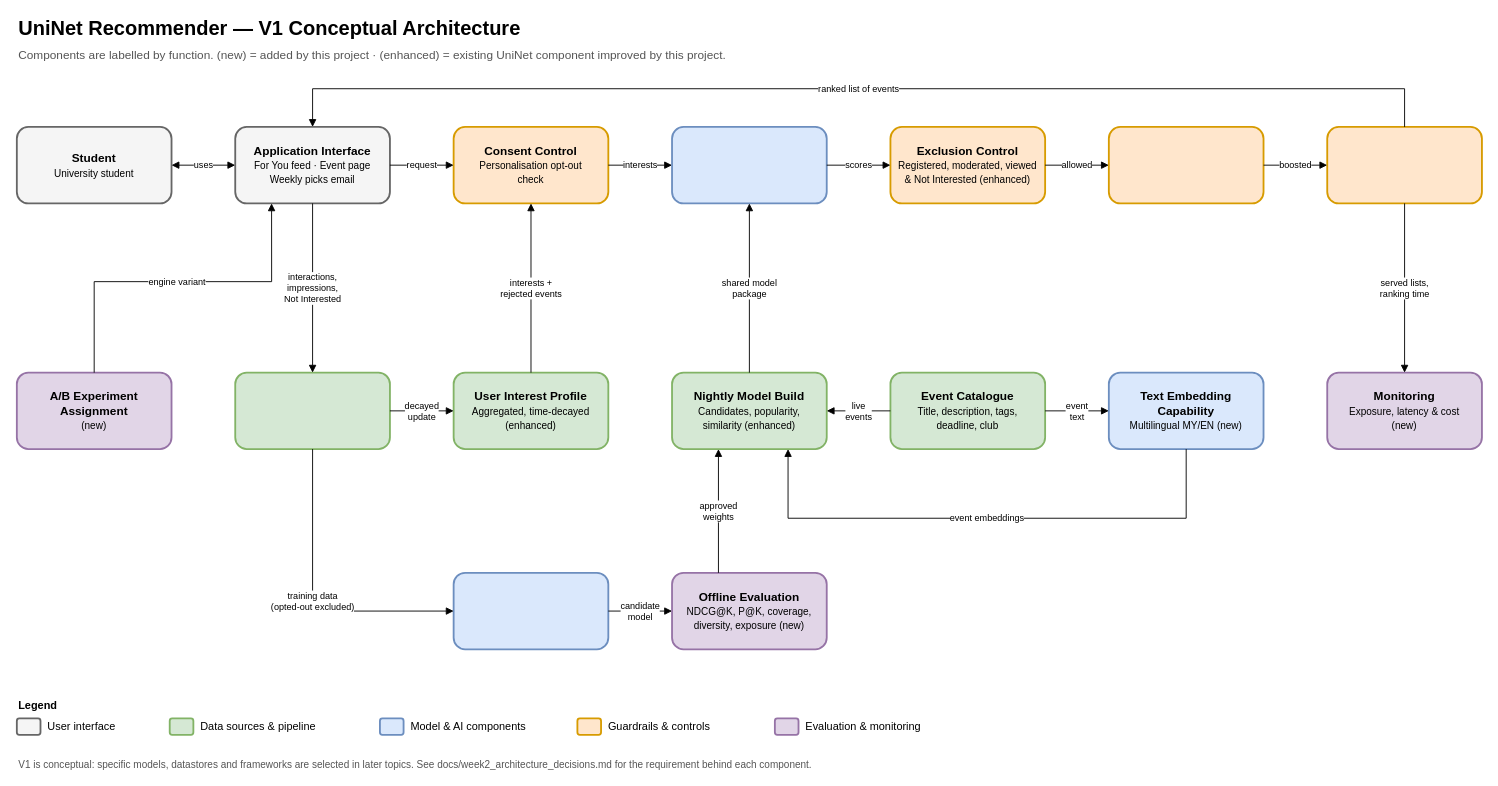
The diagram is 1498 pixels wide and 786 high, and some of its shapes have lost their labels. The shapes that lost their labels are listed below. From the top down, each one's centre as x and y in pixels, then its label:
At point (749, 165): "Ranking Capability On-device scoring with learned weights (enhanced)".
At point (1185, 165): "Partner Boost Rule Business rule for partner clubs".
At point (1404, 165): "Diversity Re-ranking Relevance vs variety (enhanced)".
At point (312, 410): "Interaction & Impression Log Pseudonymous, 90 days (new)".
At point (530, 610): "Ranking Model Training Offline learning-to-rank (new)".
